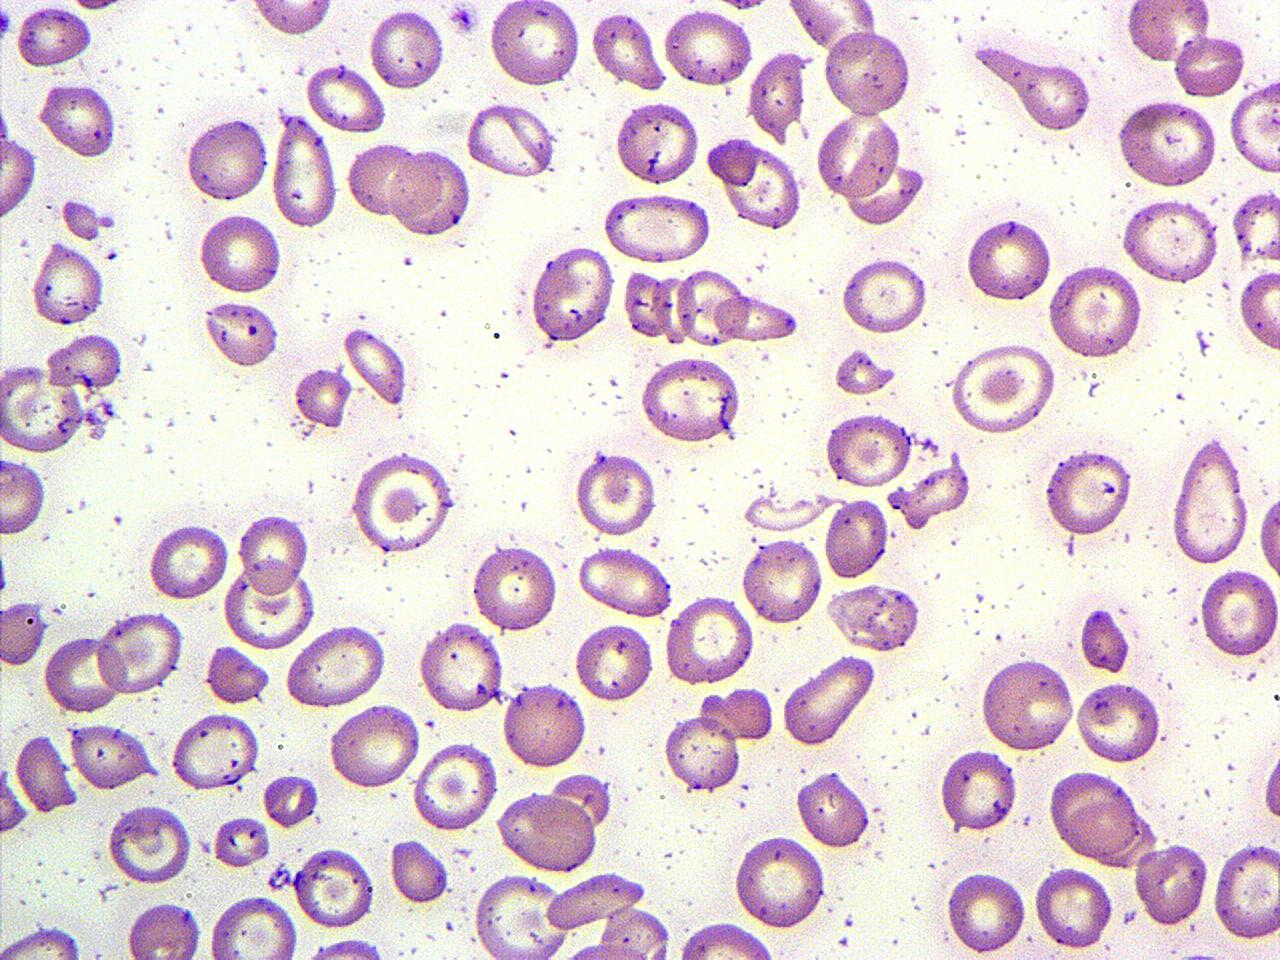Platelets: (447, 2, 482, 34), (0, 546, 11, 600), (0, 4, 13, 43)
RBC: (349, 448, 457, 557), (949, 340, 1059, 437), (1170, 436, 1250, 566), (1045, 260, 1145, 360), (638, 354, 744, 446), (1116, 97, 1220, 190), (978, 656, 1075, 754), (732, 832, 828, 931), (780, 652, 878, 748), (494, 787, 600, 874), (1120, 196, 1222, 286), (528, 242, 616, 345), (283, 623, 387, 710), (471, 870, 571, 960), (409, 737, 499, 834), (663, 592, 755, 686), (1042, 446, 1136, 538), (328, 700, 421, 791), (222, 562, 316, 652), (488, 0, 582, 90), (470, 540, 559, 635), (416, 620, 504, 716), (602, 191, 714, 266), (821, 26, 912, 118), (964, 214, 1055, 306), (500, 678, 588, 772), (0, 361, 84, 456), (612, 99, 702, 187), (1073, 678, 1163, 766), (169, 708, 261, 794), (662, 5, 755, 90), (1199, 563, 1279, 661), (388, 148, 473, 240), (739, 534, 822, 628), (463, 100, 560, 180), (96, 610, 184, 698), (184, 113, 269, 204), (816, 109, 900, 199), (839, 253, 929, 337), (198, 209, 284, 296), (292, 842, 375, 932), (823, 408, 914, 490), (272, 114, 338, 227), (722, 139, 802, 232), (575, 546, 675, 620), (944, 868, 1029, 955), (573, 451, 658, 538), (105, 802, 193, 886), (938, 744, 1018, 836), (1033, 863, 1115, 951), (573, 618, 655, 706), (823, 581, 923, 653), (662, 710, 744, 796), (146, 520, 231, 602), (368, 4, 446, 93), (1212, 838, 1278, 943), (30, 239, 106, 329), (1134, 838, 1210, 928), (43, 632, 123, 715), (67, 720, 155, 794), (672, 264, 749, 348), (590, 7, 666, 92), (304, 60, 388, 136), (236, 510, 310, 596), (796, 769, 872, 852), (208, 892, 300, 960), (1014, 56, 1093, 133), (39, 80, 114, 160), (845, 155, 928, 227), (1123, 0, 1211, 67), (200, 296, 280, 369), (346, 138, 418, 219), (746, 49, 807, 144), (824, 494, 890, 580), (342, 323, 410, 406), (14, 730, 78, 816), (897, 458, 973, 530), (14, 3, 93, 71), (783, 0, 880, 55), (1063, 792, 1139, 862), (1227, 79, 1279, 177), (1171, 32, 1247, 99), (712, 291, 800, 346), (125, 898, 203, 960), (45, 329, 122, 390), (202, 642, 270, 706), (1230, 184, 1280, 269), (619, 266, 676, 340), (388, 836, 449, 904), (674, 920, 778, 959), (0, 454, 48, 538), (743, 488, 830, 534), (1078, 604, 1134, 675), (293, 362, 352, 428), (1237, 264, 1279, 354), (211, 812, 272, 870), (0, 598, 49, 668), (720, 682, 776, 742), (248, 0, 337, 37), (834, 346, 896, 398), (263, 772, 318, 828), (0, 924, 85, 960), (0, 135, 36, 219), (703, 134, 758, 186), (1, 752, 32, 838), (1255, 478, 1279, 589), (298, 935, 392, 960), (1260, 730, 1280, 831), (62, 196, 103, 243)
WBC: (824, 582, 924, 654)
